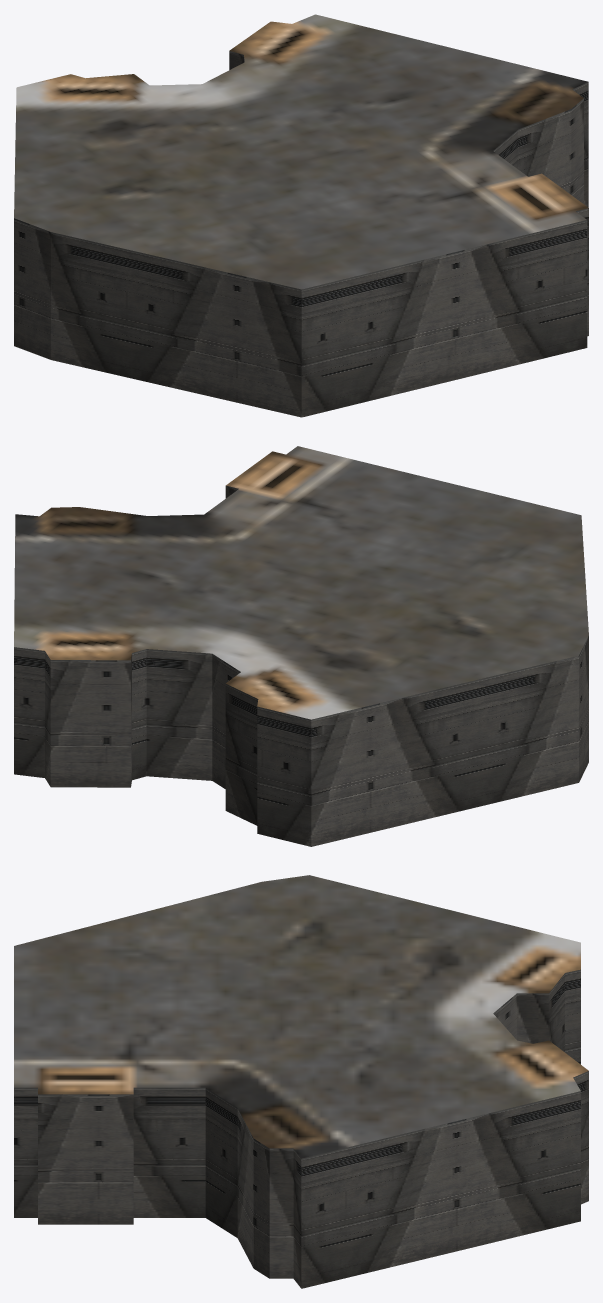
File: fortress_light_a_58.glb
The picture shows the model from 3 angles, top to bottom: view 1: azimuth 30°, elevation 25°; view 2: azimuth 150°, elevation 25°; view 3: azimuth 270°, elevation 25°; orthographic projection. The views are drawn at different scales.
Visible parts, largest first — view 1: buildings/saxarba/fortress_light/fortress_light_a_58; view 2: buildings/saxarba/fortress_light/fortress_light_a_58; view 3: buildings/saxarba/fortress_light/fortress_light_a_58.
Part boxes in pixels (x1,y1,x2,y2): buildings/saxarba/fortress_light/fortress_light_a_58: (14, 14, 588, 417); buildings/saxarba/fortress_light/fortress_light_a_58: (14, 446, 588, 846); buildings/saxarba/fortress_light/fortress_light_a_58: (14, 875, 588, 1288).
Size of the model in its own units: 84 by 18 by 72.
